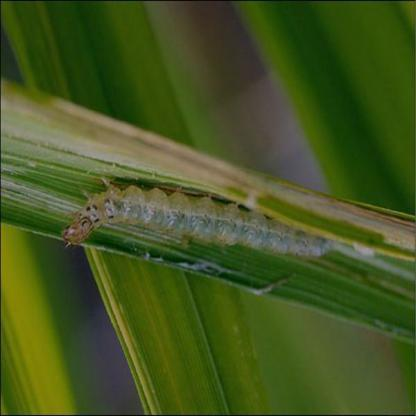leaf-folder: (49, 149, 360, 289)
